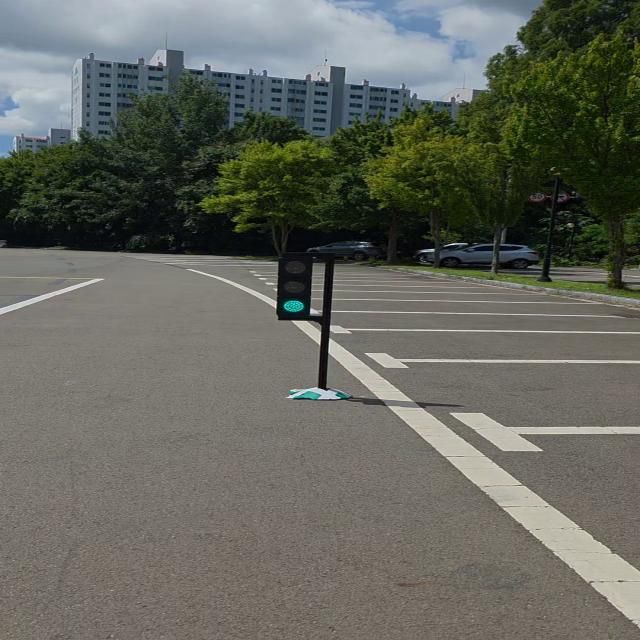green: (279, 255, 311, 320)
